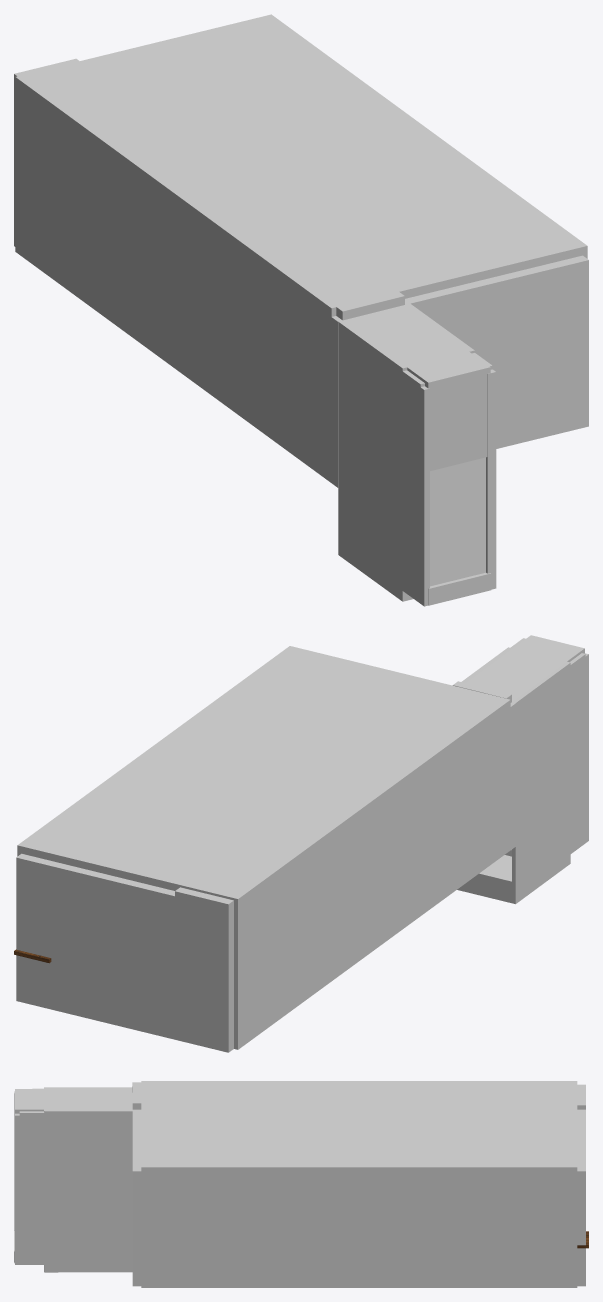
File: TemploLoco (2).fbx
3 renders of one model, top to bottom at view 1: azimuth 30°, elevation 25°; view 2: azimuth 150°, elevation 25°; view 3: azimuth 270°, elevation 25°, orthographic. The views are drawn at different scales.
Parts seen in each view (by area): view 1: Cube, Cube.007; view 2: Cube; view 3: Cube.
Part boxes in pixels (x1,y1,x2,y2): Cube: [14, 14, 588, 606]; Cube.007: [430, 457, 485, 586]; Cube: [16, 635, 588, 1052]; Cube: [14, 1081, 585, 1287].
Bounding box in the file's own units: 935 × 846 × 2636.
